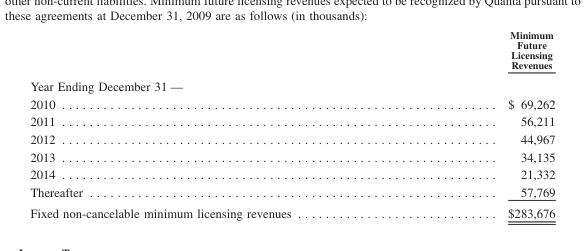table: (29, 28, 554, 220)
table column: (29, 28, 399, 220), (399, 28, 554, 220)
table column header: (29, 28, 554, 74)
table projected row header: (29, 74, 554, 94)
table row: (29, 28, 554, 74), (29, 74, 554, 94), (29, 182, 554, 202), (29, 94, 554, 112), (29, 129, 554, 147), (29, 147, 554, 165), (29, 202, 554, 220), (29, 112, 554, 129), (29, 165, 554, 182)
